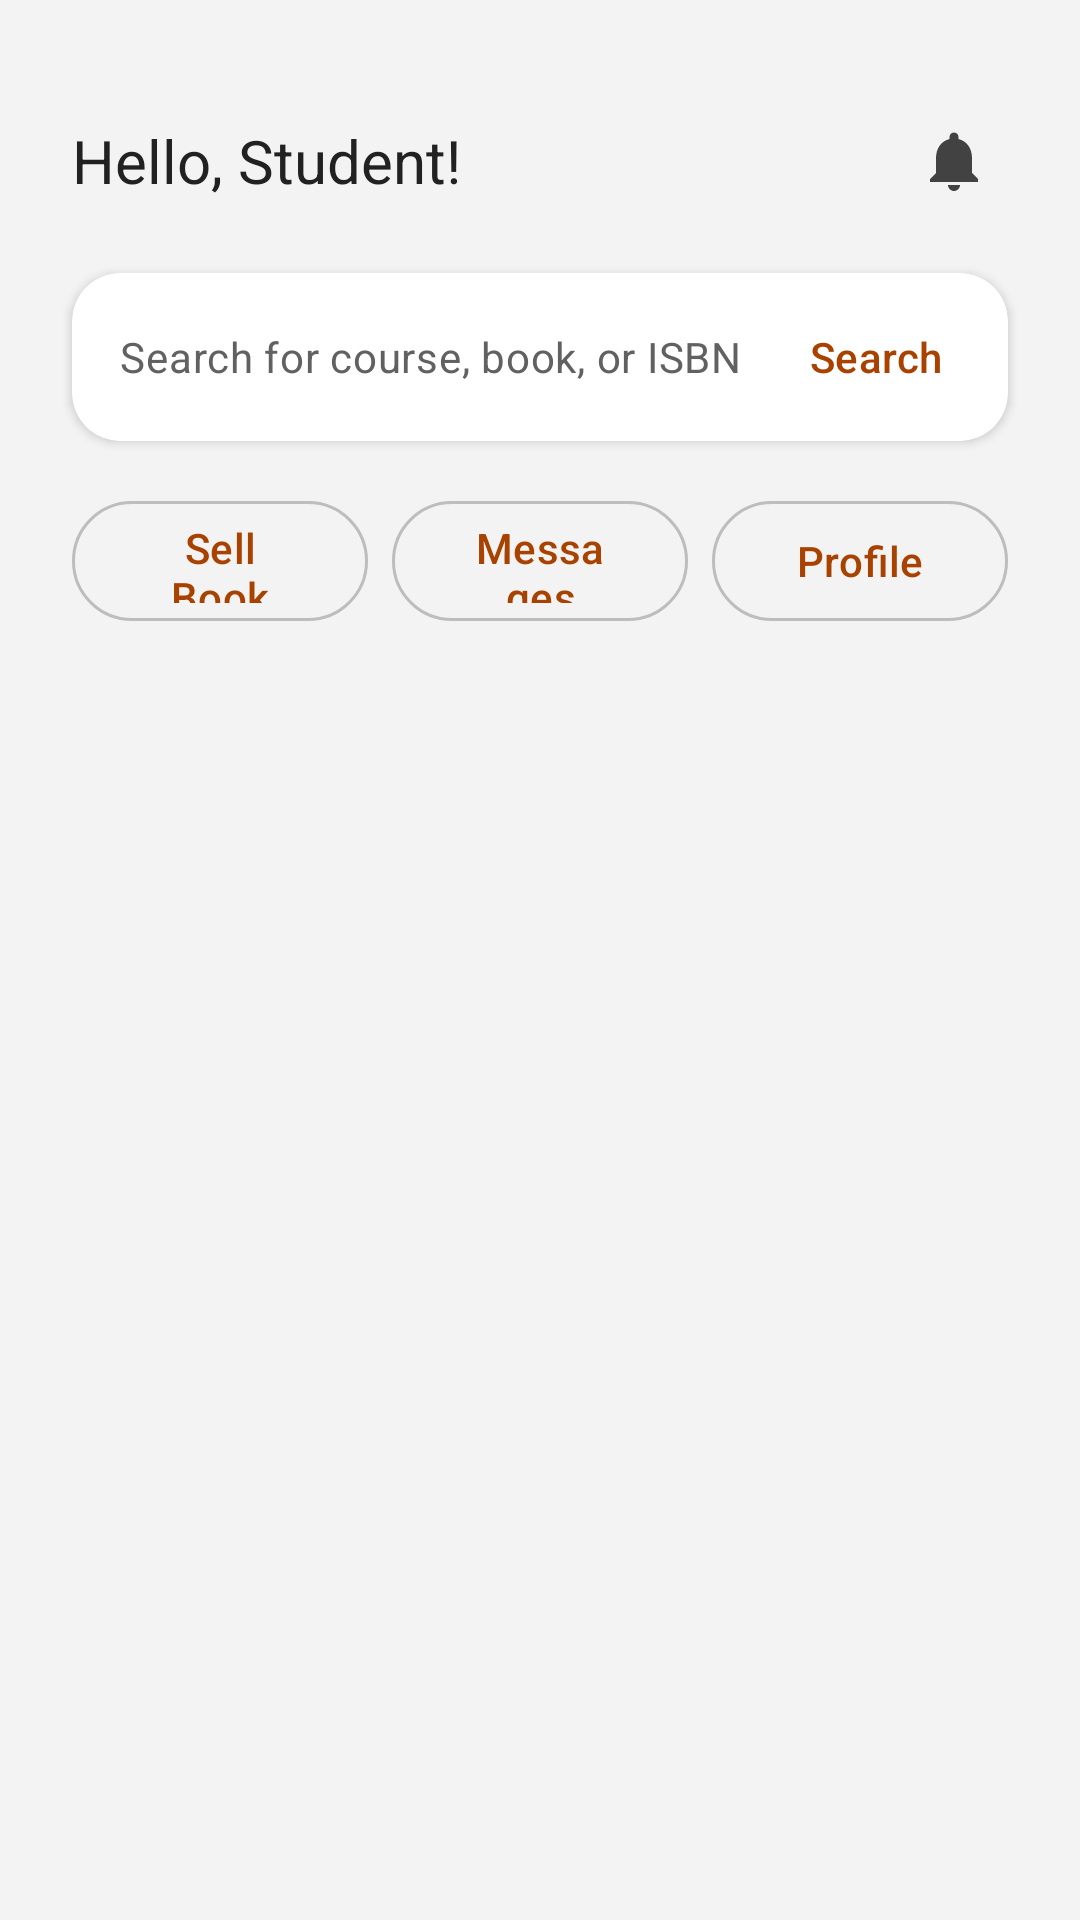

Where icons sit on this 1080w x 1920h app screen, as (x1, y1, x2, y2):
Notification Bell: (930, 132, 978, 191)
